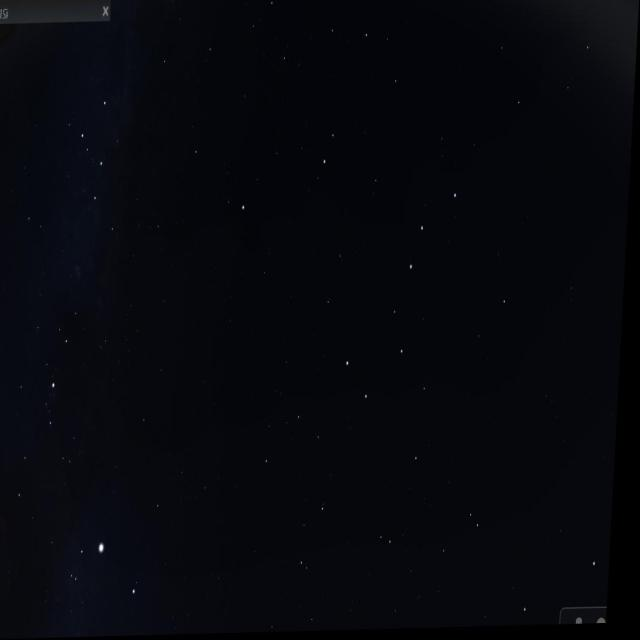cassiopeia: (62, 85, 145, 271)
ursa_major: (345, 186, 464, 412)
